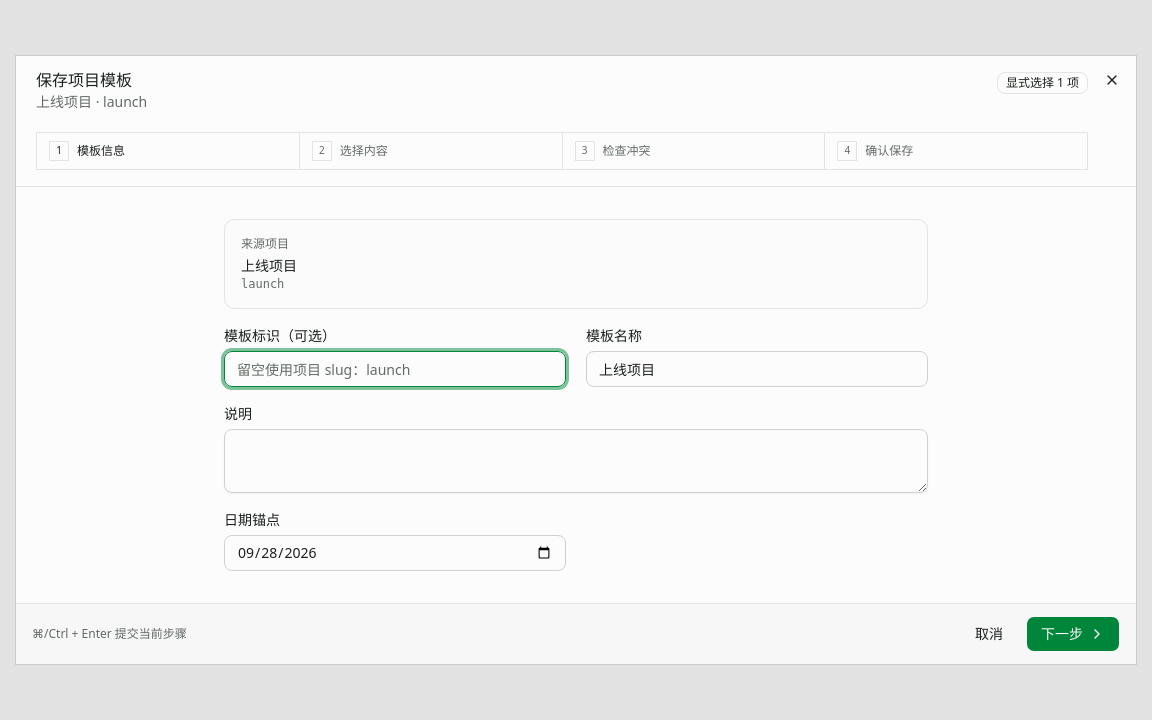
Scenario: ProjectTemplateCaptureWizard › leaves an over-limit default kind unselected instead of truncating it
Click the button "下一步" at point(1073, 634), box [1026, 616, 1120, 652]
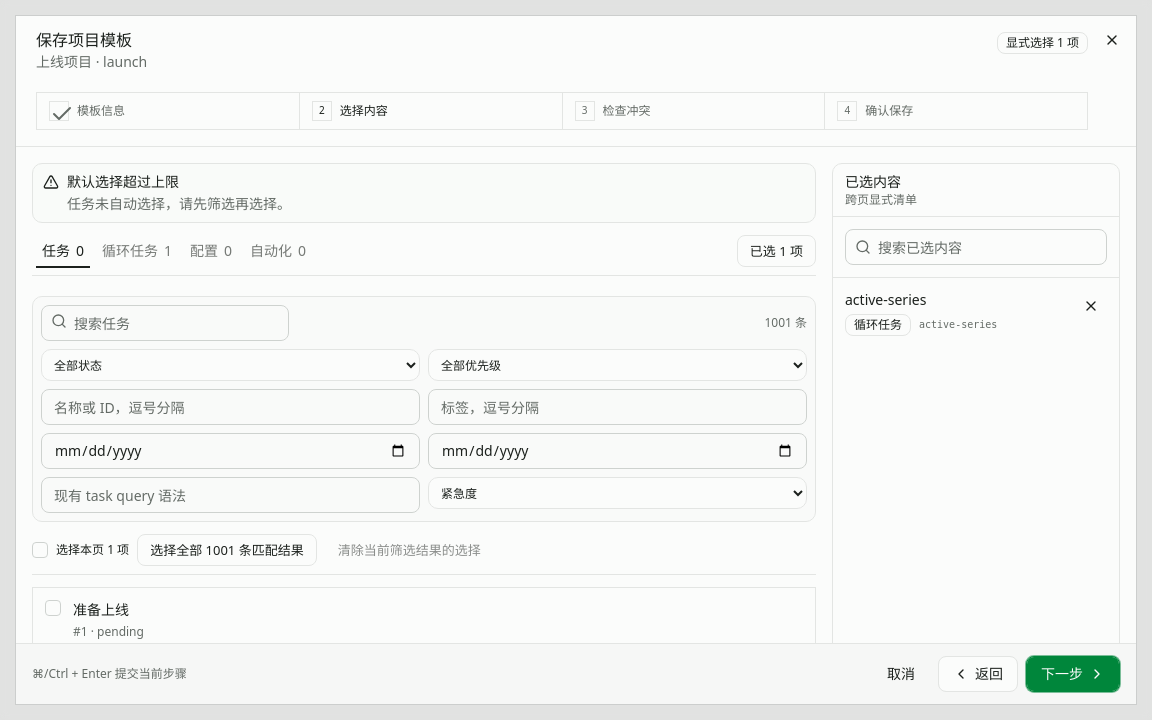
Now the text "任务未自动选择，请先筛选再选择。" is shown, box [67, 194, 291, 213]
Now the tab named "任务0" is shown, box [35, 238, 91, 264]
Now the tab named "循环任务1" is shown, box [95, 238, 179, 264]
